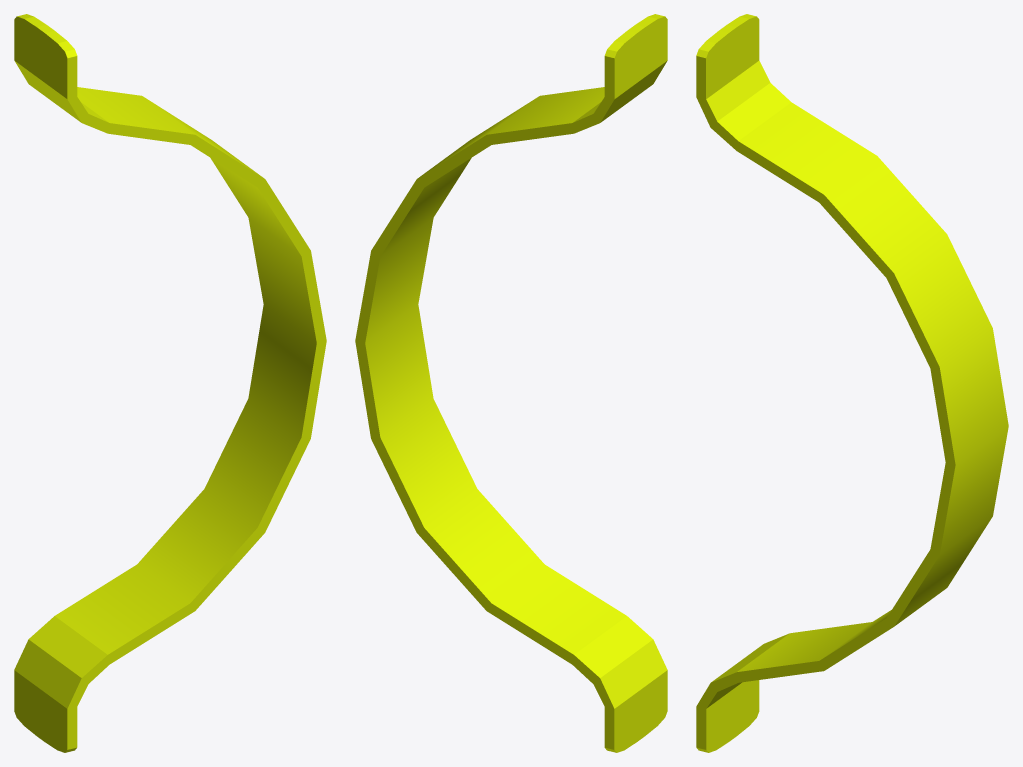
File: Support_03.FBX
The picture shows the model from 3 angles, left to right: view 1: azimuth 30°, elevation 25°; view 2: azimuth 150°, elevation 25°; view 3: azimuth 330°, elevation 25°; orthographic projection.
Visible parts, largest first — view 1: Support_02_Low; view 2: Support_02_Low; view 3: Support_02_Low.
Part boxes in pixels (x1,y1,x2,y2): Support_02_Low: (14,14,326,752); Support_02_Low: (355,14,667,752); Support_02_Low: (696,14,1008,752).
Bounding box in the file's own units: 15.87 × 41.45 × 5.65.
